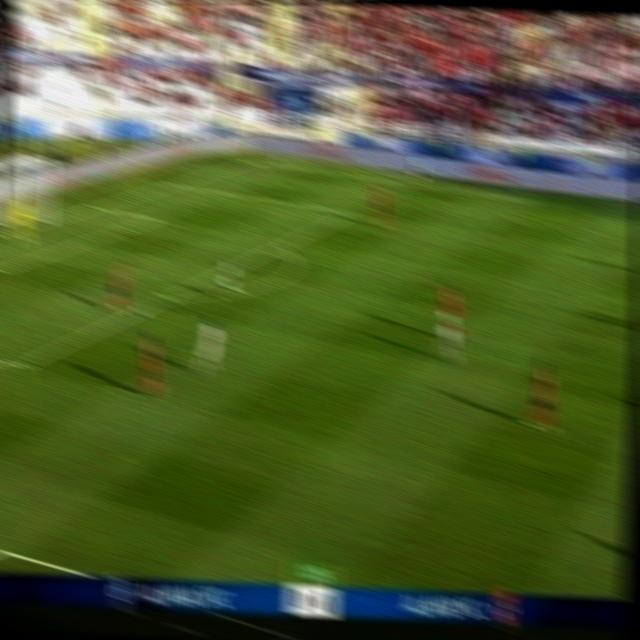bigarea_bottom_inner: (9, 351, 32, 378)
bigarea_top_inner: (339, 205, 353, 221)
bigarea_top_outter: (166, 178, 179, 187)
bottom_arc_area_intersection: (161, 289, 177, 303)
corner: (245, 154, 259, 162)
smallarea_top_inner: (145, 211, 161, 223)
smallarea_top_outter: (88, 199, 104, 213)
top_arc_area_intersection: (272, 236, 287, 250)
